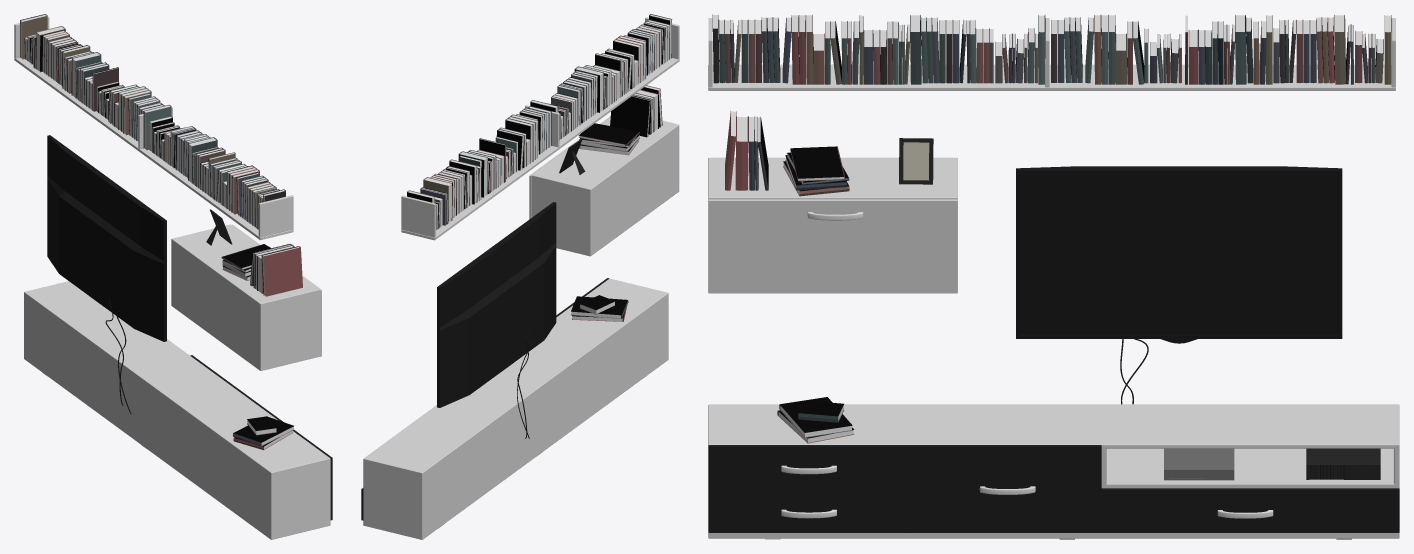
File: tv_type_2.glb
The picture shows the model from 3 angles, left to right: view 1: azimuth 30°, elevation 25°; view 2: azimuth 150°, elevation 25°; view 3: azimuth 270°, elevation 25°; orthographic projection. The views are drawn at different scales.
Visible parts, largest first — view 1: TV Unit; view 2: TV Unit; view 3: TV Unit.
Boxes of the visible parts, <box> form: TV Unit: <box>14,14,332,539</box>; TV Unit: <box>361,14,679,539</box>; TV Unit: <box>708,14,1399,539</box>.
Size of the model in its own units: 0.6037 by 2.55 by 3.31.
Materials: 11 (1 with a texture image).
